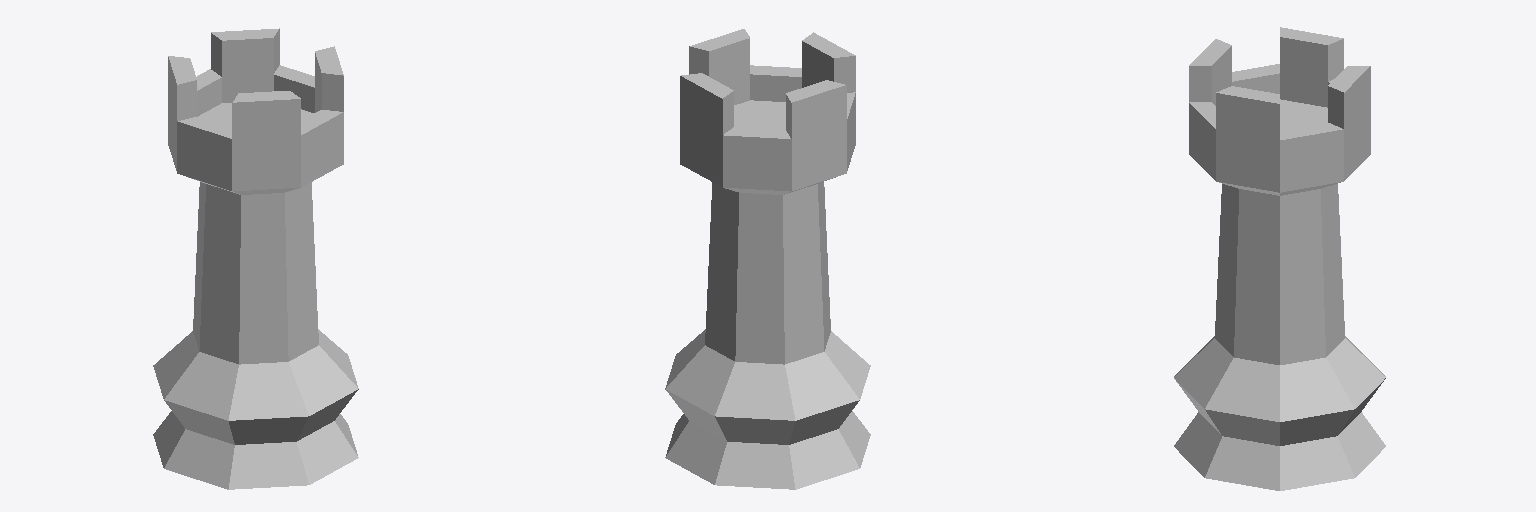
File: rook.obj
The picture shows the model from 3 angles: view 1: azimuth 30°, elevation 25°; view 2: azimuth 150°, elevation 25°; view 3: azimuth 270°, elevation 25°; orthographic projection.
Visible parts, largest first — view 1: Circle; view 2: Circle; view 3: Circle.
Boxes of the visible parts, <box> form: Circle: <box>153,28,358,489</box>; Circle: <box>665,29,870,489</box>; Circle: <box>1174,27,1385,490</box>.
Bounding box in the file's own units: 0.14 × 0.2761 × 0.14.